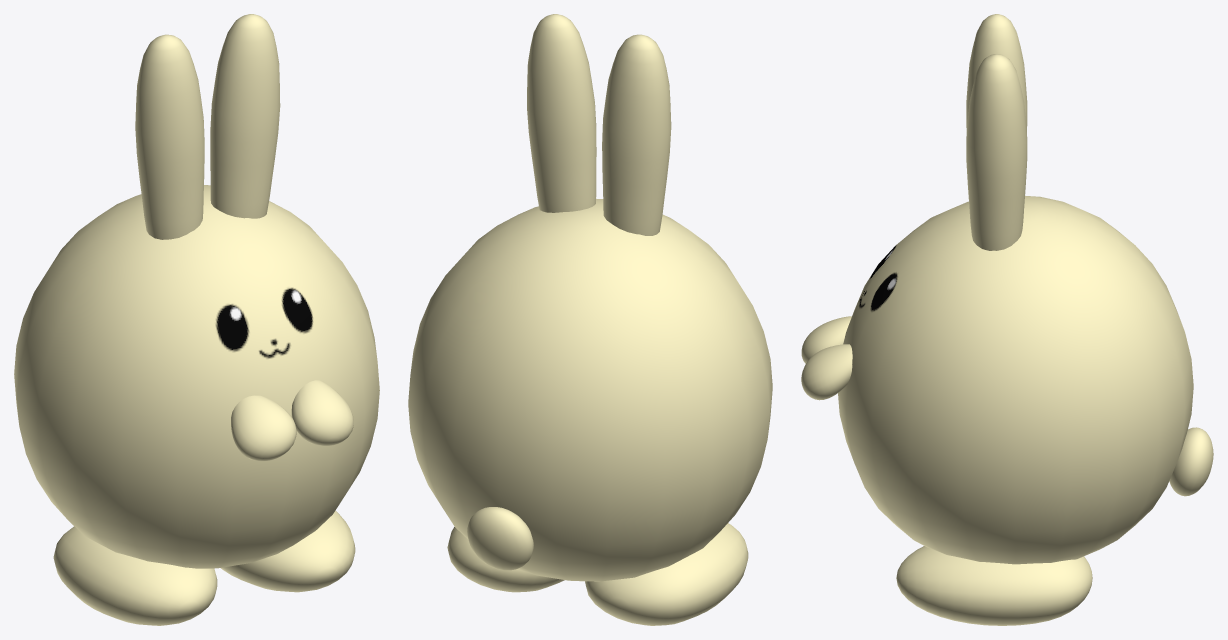
File: usa.fbx
The picture shows the model from 3 angles, left to right: view 1: azimuth 30°, elevation 25°; view 2: azimuth 150°, elevation 25°; view 3: azimuth 270°, elevation 25°; orthographic projection. The views are drawn at different scales.
Visible parts, largest first — view 1: karada, left_mimi, right_mimi, right_ashi, left_ashi, right_hand, left_hand; view 2: karada, left_mimi, right_mimi, right_ashi, shippo, left_ashi; view 3: karada, left_ashi, left_mimi, right_mimi, left_hand, shippo, right_hand.
Boxes of the visible parts, left/top/right/bottom form: karada: left=14, top=185, right=379, bottom=568; left_mimi: left=210, top=14, right=280, bottom=218; right_mimi: left=135, top=34, right=204, bottom=239; right_ashi: left=53, top=526, right=217, bottom=625; left_ashi: left=221, top=511, right=355, bottom=592; right_hand: left=231, top=395, right=296, bottom=461; left_hand: left=291, top=380, right=353, bottom=445; karada: left=408, top=198, right=772, bottom=581; left_mimi: left=527, top=14, right=596, bottom=212; right_mimi: left=602, top=34, right=671, bottom=235; right_ashi: left=585, top=523, right=748, bottom=625; shippo: left=467, top=507, right=533, bottom=570; left_ashi: left=447, top=527, right=564, bottom=592; karada: left=838, top=195, right=1193, bottom=564; left_ashi: left=896, top=546, right=1092, bottom=625; left_mimi: left=966, top=54, right=1027, bottom=250; right_mimi: left=966, top=14, right=1027, bottom=131; left_hand: left=801, top=344, right=852, bottom=400; shippo: left=1169, top=427, right=1213, bottom=496; right_hand: left=801, top=316, right=851, bottom=363.
Size of the model in its own units: 0.3397 by 0.5774 by 0.3929.
1 material, 1 textured.
